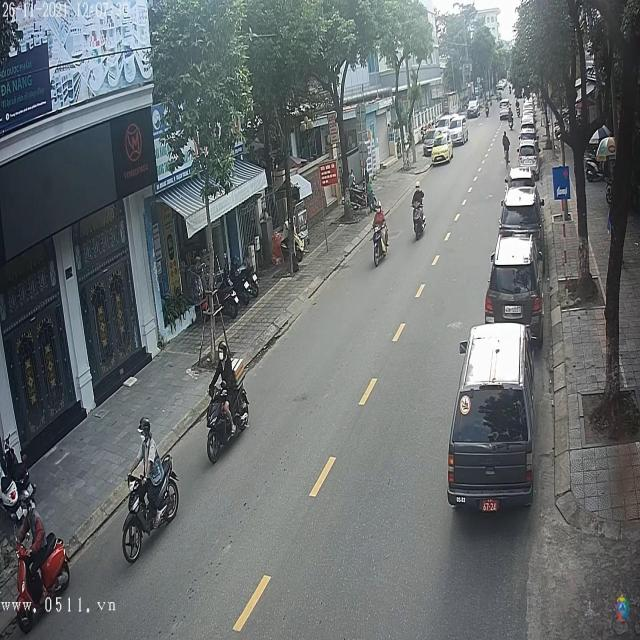car: (449, 322, 535, 508), (486, 232, 543, 333), (502, 184, 540, 228), (518, 125, 536, 142), (469, 99, 481, 117)
motorcycle: (122, 449, 180, 564), (203, 376, 252, 465), (372, 224, 390, 265), (412, 200, 427, 242)
